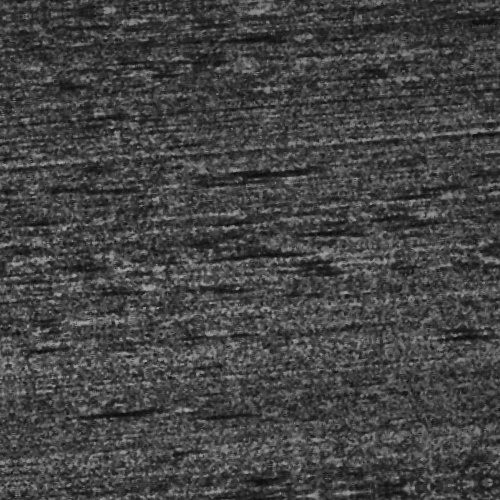object: (126, 397, 189, 404), (473, 348, 500, 353)
shadow: (68, 397, 157, 404), (422, 348, 500, 353)
